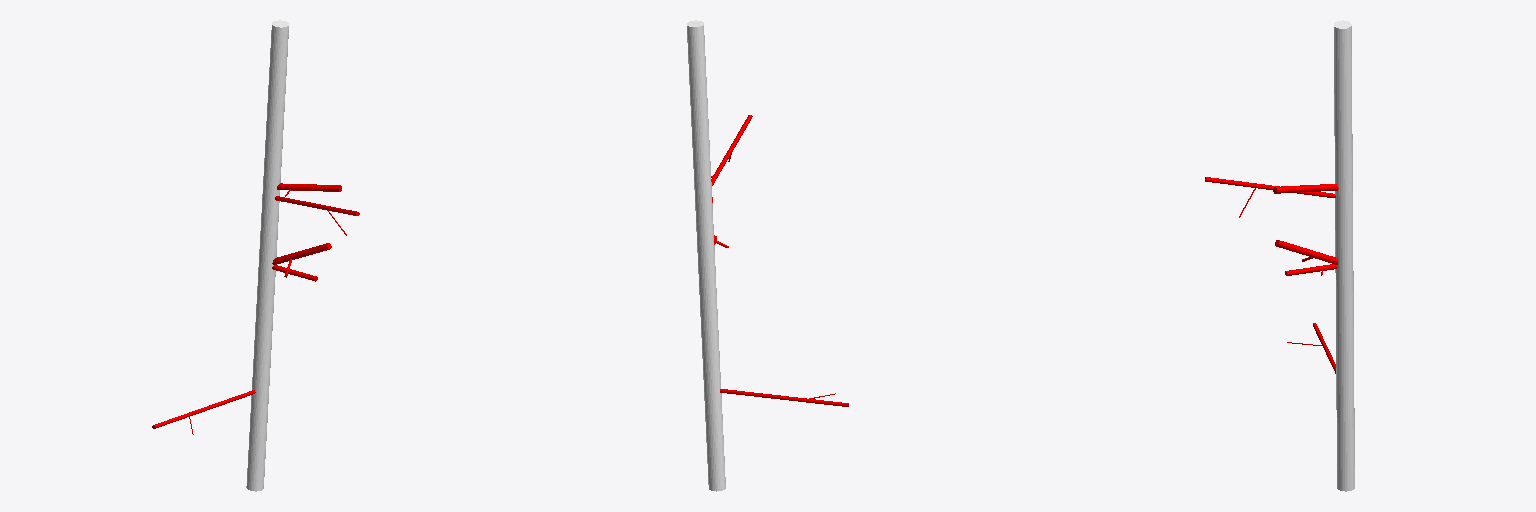
URDF robot description (tree_175.urdf):
<?xml version='1.0' encoding='UTF-8'?>
<robot name="tree_175.urdf">
  <link name="branch_0">
    <inertial>
      <origin xyz="0.0 0.0 0.0" rpy="0.0 -0.0 0.0"/>
      <mass value="0.1"/>
      <inertia ixx="0.001" ixy="0.0" ixz="0.0" iyy="0.001" iyz="0.0" izz="0.001"/>
    </inertial>
    <visual name="branch_0_visual">
      <geometry>
        <cylinder radius="0.17653557201023296" length="10.24990741667997"/>
      </geometry>
      <material name="branch_material"/>
      <origin xyz="0.2771979072702992 -0.03300558028827684 5.117345255550242" rpy="0.0 0.054496918142873725 -0.11851069505258607"/>
    </visual>
    <collision name="branch_0_collision">
      <geometry>
        <cylinder radius="0.17653557201023296" length="10.24990741667997"/>
      </geometry>
      <origin xyz="0.2771979072702992 -0.03300558028827684 5.117345255550242" rpy="0.0 0.054496918142873725 -0.11851069505258607"/>
    </collision>
  </link>
  <link name="branch_1">
    <inertial>
      <origin xyz="0.0 0.0 0.0" rpy="0.0 -0.0 0.0"/>
      <mass value="0.1"/>
      <inertia ixx="0.001" ixy="0.0" ixz="0.0" iyy="0.001" iyz="0.0" izz="0.001"/>
    </inertial>
    <visual name="branch_1_visual">
      <geometry>
        <cylinder radius="0.05328207386455931" length="1.2395893830807017"/>
      </geometry>
      <material name="semantic_material"/>
      <origin xyz="0.0 0.0 0.0" rpy="0.0 -0.0 0.0"/>
    </visual>
    <collision name="branch_1_collision">
      <geometry>
        <cylinder radius="0.05328207386455931" length="1.2395893830807017"/>
      </geometry>
      <origin xyz="0.0 0.0 0.0" rpy="0.0 -0.0 0.0"/>
    </collision>
  </link>
  <link name="branch_2">
    <inertial>
      <origin xyz="0.0 0.0 0.0" rpy="0.0 -0.0 0.0"/>
      <mass value="0.1"/>
      <inertia ixx="0.001" ixy="0.0" ixz="0.0" iyy="0.001" iyz="0.0" izz="0.001"/>
    </inertial>
    <visual name="branch_2_visual">
      <geometry>
        <cylinder radius="0.01489648704969651" length="0.1956496323971128"/>
      </geometry>
      <material name="semantic_material"/>
      <origin xyz="0.0 0.0 0.0" rpy="0.0 -0.0 0.0"/>
    </visual>
    <collision name="branch_2_collision">
      <geometry>
        <cylinder radius="0.01489648704969651" length="0.1956496323971128"/>
      </geometry>
      <origin xyz="0.0 0.0 0.0" rpy="0.0 -0.0 0.0"/>
    </collision>
  </link>
  <link name="branch_3">
    <inertial>
      <origin xyz="0.0 0.0 0.0" rpy="0.0 -0.0 0.0"/>
      <mass value="0.1"/>
      <inertia ixx="0.001" ixy="0.0" ixz="0.0" iyy="0.001" iyz="0.0" izz="0.001"/>
    </inertial>
    <visual name="branch_3_visual">
      <geometry>
        <cylinder radius="0.04688903107816406" length="2.810250213674544"/>
      </geometry>
      <material name="semantic_material"/>
      <origin xyz="0.0 0.0 0.0" rpy="0.0 -0.0 0.0"/>
    </visual>
    <collision name="branch_3_collision">
      <geometry>
        <cylinder radius="0.04688903107816406" length="2.810250213674544"/>
      </geometry>
      <origin xyz="0.0 0.0 0.0" rpy="0.0 -0.0 0.0"/>
    </collision>
  </link>
  <link name="branch_4">
    <inertial>
      <origin xyz="0.0 0.0 0.0" rpy="0.0 -0.0 0.0"/>
      <mass value="0.1"/>
      <inertia ixx="0.001" ixy="0.0" ixz="0.0" iyy="0.001" iyz="0.0" izz="0.001"/>
    </inertial>
    <visual name="branch_4_visual">
      <geometry>
        <cylinder radius="0.013363948728813049" length="0.7112095576828041"/>
      </geometry>
      <material name="semantic_material"/>
      <origin xyz="0.0 0.0 0.0" rpy="0.0 -0.0 0.0"/>
    </visual>
    <collision name="branch_4_collision">
      <geometry>
        <cylinder radius="0.013363948728813049" length="0.7112095576828041"/>
      </geometry>
      <origin xyz="0.0 0.0 0.0" rpy="0.0 -0.0 0.0"/>
    </collision>
  </link>
  <link name="branch_5">
    <inertial>
      <origin xyz="0.0 0.0 0.0" rpy="0.0 -0.0 0.0"/>
      <mass value="0.1"/>
      <inertia ixx="0.001" ixy="0.0" ixz="0.0" iyy="0.001" iyz="0.0" izz="0.001"/>
    </inertial>
    <visual name="branch_5_visual">
      <geometry>
        <cylinder radius="0.06886069923090438" length="1.6072656058985972"/>
      </geometry>
      <material name="semantic_material"/>
      <origin xyz="0.0 0.0 0.0" rpy="0.0 -0.0 0.0"/>
    </visual>
    <collision name="branch_5_collision">
      <geometry>
        <cylinder radius="0.06886069923090438" length="1.6072656058985972"/>
      </geometry>
      <origin xyz="0.0 0.0 0.0" rpy="0.0 -0.0 0.0"/>
    </collision>
  </link>
  <link name="branch_6">
    <inertial>
      <origin xyz="0.0 0.0 0.0" rpy="0.0 -0.0 0.0"/>
      <mass value="0.1"/>
      <inertia ixx="0.001" ixy="0.0" ixz="0.0" iyy="0.001" iyz="0.0" izz="0.001"/>
    </inertial>
    <visual name="branch_6_visual">
      <geometry>
        <cylinder radius="0.016929330656936286" length="0.2710467714516619"/>
      </geometry>
      <material name="semantic_material"/>
      <origin xyz="0.0 0.0 0.0" rpy="0.0 -0.0 0.0"/>
    </visual>
    <collision name="branch_6_collision">
      <geometry>
        <cylinder radius="0.016929330656936286" length="0.2710467714516619"/>
      </geometry>
      <origin xyz="0.0 0.0 0.0" rpy="0.0 -0.0 0.0"/>
    </collision>
  </link>
  <link name="branch_7">
    <inertial>
      <origin xyz="0.0 0.0 0.0" rpy="0.0 -0.0 0.0"/>
      <mass value="0.1"/>
      <inertia ixx="0.001" ixy="0.0" ixz="0.0" iyy="0.001" iyz="0.0" izz="0.001"/>
    </inertial>
    <visual name="branch_7_visual">
      <geometry>
        <cylinder radius="0.0685494424555622" length="1.671551702519047"/>
      </geometry>
      <material name="semantic_material"/>
      <origin xyz="0.0 0.0 0.0" rpy="0.0 -0.0 0.0"/>
    </visual>
    <collision name="branch_7_collision">
      <geometry>
        <cylinder radius="0.0685494424555622" length="1.671551702519047"/>
      </geometry>
      <origin xyz="0.0 0.0 0.0" rpy="0.0 -0.0 0.0"/>
    </collision>
  </link>
  <link name="branch_8">
    <inertial>
      <origin xyz="0.0 0.0 0.0" rpy="0.0 -0.0 0.0"/>
      <mass value="0.1"/>
      <inertia ixx="0.001" ixy="0.0" ixz="0.0" iyy="0.001" iyz="0.0" izz="0.001"/>
    </inertial>
    <visual name="branch_8_visual">
      <geometry>
        <cylinder radius="0.027083941122387833" length="0.497084284236598"/>
      </geometry>
      <material name="semantic_material"/>
      <origin xyz="0.0 0.0 0.0" rpy="0.0 -0.0 0.0"/>
    </visual>
    <collision name="branch_8_collision">
      <geometry>
        <cylinder radius="0.027083941122387833" length="0.497084284236598"/>
      </geometry>
      <origin xyz="0.0 0.0 0.0" rpy="0.0 -0.0 0.0"/>
    </collision>
  </link>
  <link name="branch_9">
    <inertial>
      <origin xyz="0.0 0.0 0.0" rpy="0.0 -0.0 0.0"/>
      <mass value="0.1"/>
      <inertia ixx="0.001" ixy="0.0" ixz="0.0" iyy="0.001" iyz="0.0" izz="0.001"/>
    </inertial>
    <visual name="branch_9_visual">
      <geometry>
        <cylinder radius="0.0409492142827405" length="2.9044178390149744"/>
      </geometry>
      <material name="semantic_material"/>
      <origin xyz="0.0 0.0 0.0" rpy="0.0 -0.0 0.0"/>
    </visual>
    <collision name="branch_9_collision">
      <geometry>
        <cylinder radius="0.0409492142827405" length="2.9044178390149744"/>
      </geometry>
      <origin xyz="0.0 0.0 0.0" rpy="0.0 -0.0 0.0"/>
    </collision>
  </link>
  <link name="branch_10">
    <inertial>
      <origin xyz="0.0 0.0 0.0" rpy="0.0 -0.0 0.0"/>
      <mass value="0.1"/>
      <inertia ixx="0.001" ixy="0.0" ixz="0.0" iyy="0.001" iyz="0.0" izz="0.001"/>
    </inertial>
    <visual name="branch_10_visual">
      <geometry>
        <cylinder radius="0.010290468438513662" length="0.8062905260453581"/>
      </geometry>
      <material name="semantic_material"/>
      <origin xyz="0.0 0.0 0.0" rpy="0.0 -0.0 0.0"/>
    </visual>
    <collision name="branch_10_collision">
      <geometry>
        <cylinder radius="0.010290468438513662" length="0.8062905260453581"/>
      </geometry>
      <origin xyz="0.0 0.0 0.0" rpy="0.0 -0.0 0.0"/>
    </collision>
  </link>
  <joint name="joint_0_1" type="fixed">
    <parent link="branch_0"/>
    <child link="branch_1"/>
    <axis xyz="1. 0. 0."/>
    <origin xyz="0.5060136128861051 -0.6028566950458023 4.934597845653579" rpy="-0.9671737771964577 1.513146480319745 -2.1412298674349253"/>
  </joint>
  <joint name="joint_0_3" type="fixed">
    <parent link="branch_0"/>
    <child link="branch_3"/>
    <axis xyz="1. 0. 0."/>
    <origin xyz="0.5785944788176479 -1.3938463866392699 6.719257734345569" rpy="-0.23839454386230352 1.3469797525404845 -1.645856900493063"/>
  </joint>
  <joint name="joint_0_5" type="fixed">
    <parent link="branch_0"/>
    <child link="branch_5"/>
    <axis xyz="1. 0. 0."/>
    <origin xyz="0.7709226703902452 -0.7163300586818561 6.8024088830584075" rpy="-0.2220377940332524 1.3736804630897537 -1.249373664816816"/>
  </joint>
  <joint name="joint_0_7" type="fixed">
    <parent link="branch_0"/>
    <child link="branch_7"/>
    <axis xyz="1. 0. 0."/>
    <origin xyz="0.6104960931721545 -0.6908787903544807 5.327798128304976" rpy="-0.09945122114497254 1.091927463277215 -1.203254590169428"/>
  </joint>
  <joint name="joint_0_9" type="fixed">
    <parent link="branch_0"/>
    <child link="branch_9"/>
    <axis xyz="1. 0. 0."/>
    <origin xyz="-1.3027735362509862 -0.31524340474899043 2.203111126153786" rpy="-0.6141340171701326 1.540379454637317 2.736277983793717"/>
  </joint>
  <joint name="joint_1_2" type="fixed">
    <parent link="branch_0"/>
    <child link="branch_2"/>
    <axis xyz="1. 0. 0."/>
    <origin xyz="0.5301472238511281 -0.46614525035116205 4.888434052647217" rpy="2.017319036519124 0.2630181621709989 1.5288545560299256"/>
  </joint>
  <joint name="joint_3_4" type="fixed">
    <parent link="branch_0"/>
    <child link="branch_4"/>
    <axis xyz="1. 0. 0."/>
    <origin xyz="0.7849618250917062 -1.9176129884937425 6.523140875167483" rpy="2.727563225966945 0.5645865025019325 1.5889662128402873"/>
  </joint>
  <joint name="joint_5_6" type="fixed">
    <parent link="branch_0"/>
    <child link="branch_6"/>
    <axis xyz="1. 0. 0."/>
    <origin xyz="0.4946847566574567 -0.4979279218226527 6.682662433181091" rpy="-2.0140498081136444 0.1232647740577337 1.9671152398076321"/>
  </joint>
  <joint name="joint_7_8" type="fixed">
    <parent link="branch_0"/>
    <child link="branch_8"/>
    <axis xyz="1. 0. 0."/>
    <origin xyz="0.3828976694824143 -0.6997057146809963 5.121583537149114" rpy="-2.1796566707025096 0.45412187382409835 2.014075249681961"/>
  </joint>
  <joint name="joint_9_10" type="fixed">
    <parent link="branch_0"/>
    <child link="branch_10"/>
    <axis xyz="1. 0. 0."/>
    <origin xyz="-1.9438248753822156 -0.7821093357942455 2.176431815369142" rpy="1.6676334461282103 0.10036319985742809 -0.4136315726063634"/>
  </joint>
  <material name="branch_material">
    <color rgba="1. 1. 1. 1."/>
  </material>
  <material name="semantic_material">
    <color rgba="1. 0. 0. 1."/>
  </material>
</robot>

--- Render facts (derived) ---
The picture shows the robot from 3 angles, left to right: view 1: azimuth 30°, elevation 25°; view 2: azimuth 150°, elevation 25°; view 3: azimuth 270°, elevation 25°; orthographic projection.
Robot: tree_175.urdf — 11 links, 10 joints (10 fixed); root link branch_0; default pose: every joint at zero.
Visible links, largest first — view 1: branch_0; view 2: branch_0; view 3: branch_0.
Link boxes in pixels (x1,y1,x2,y2): branch_0: [246, 20, 288, 491]; branch_0: [687, 20, 725, 491]; branch_0: [1334, 20, 1354, 491].
Size in the robot's own frame: 3.97 by 2.94 by 10.25 metres.
Geometry: primitives only (box / cylinder / sphere), no mesh files.
